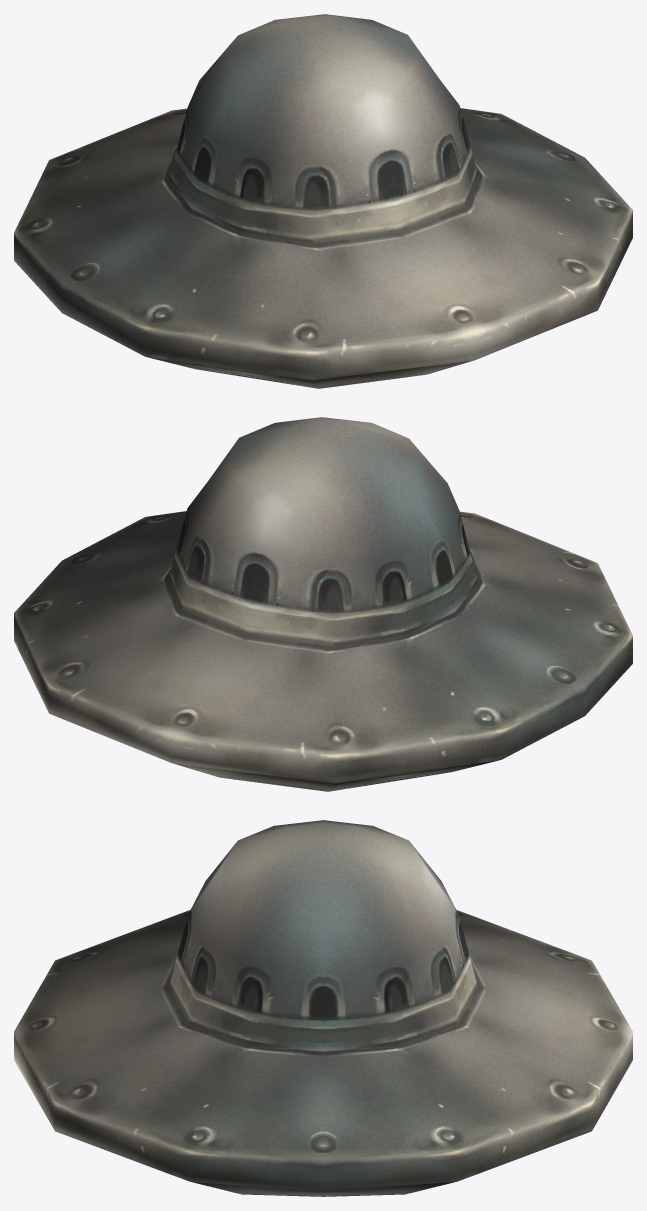
File: UFO.obj
3 renders of one model, top to bottom at view 1: azimuth 30°, elevation 25°; view 2: azimuth 150°, elevation 25°; view 3: azimuth 270°, elevation 25°, orthographic. The views are drawn at different scales.
Visible parts, largest first — view 1: UFO; view 2: UFO; view 3: UFO.
Boxes of the visible parts, x1,y1,x2,y2 form: UFO: [14, 14, 632, 388]; UFO: [14, 417, 632, 791]; UFO: [14, 820, 632, 1196].
Bounding box in the file's own units: 30.19 × 15.73 × 30.3.
